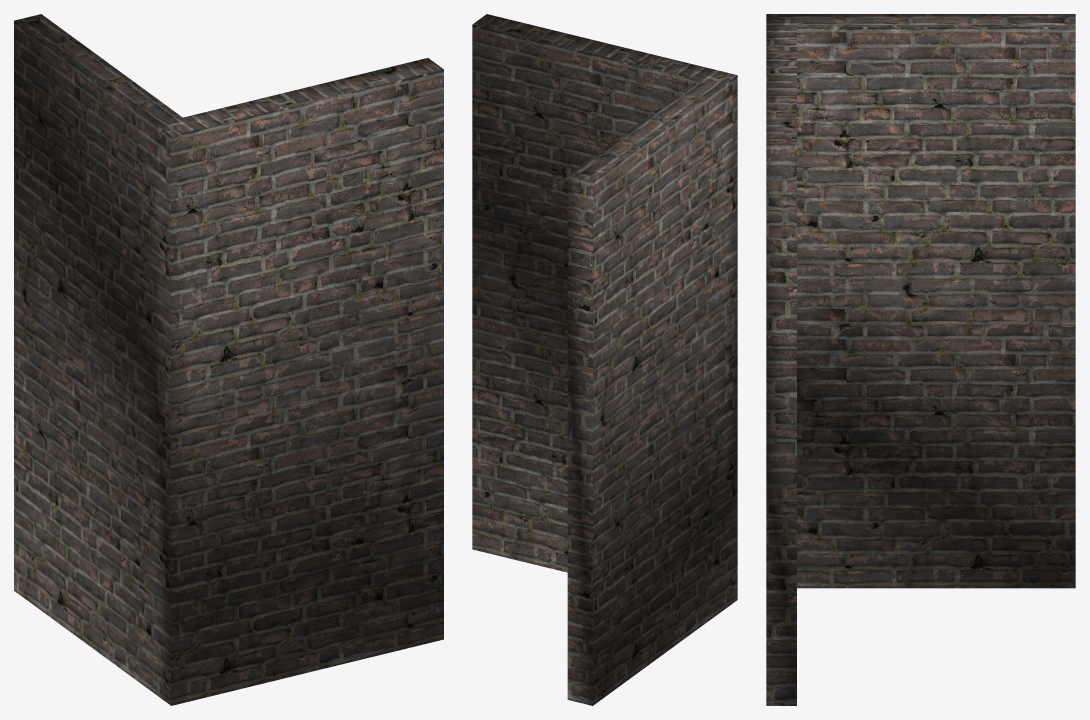
The model's file is Corner_nofloor_nodoor.fbx.
The picture shows the model from 3 angles, left to right: view 1: azimuth 30°, elevation 25°; view 2: azimuth 150°, elevation 25°; view 3: azimuth 270°, elevation 25°; orthographic projection. The views are drawn at different scales.
Visible parts, largest first — view 1: Corner_nofloor_noroof_nodoor; view 2: Corner_nofloor_noroof_nodoor; view 3: Corner_nofloor_noroof_nodoor.
Boxes of the visible parts, x1,y1,x2,y2 form: Corner_nofloor_noroof_nodoor: (14, 14, 443, 705); Corner_nofloor_noroof_nodoor: (472, 14, 737, 705); Corner_nofloor_noroof_nodoor: (766, 14, 1075, 705).
Bounding box in the file's own units: 100 × 200 × 100.
